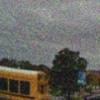buses: (0, 67, 48, 100)
